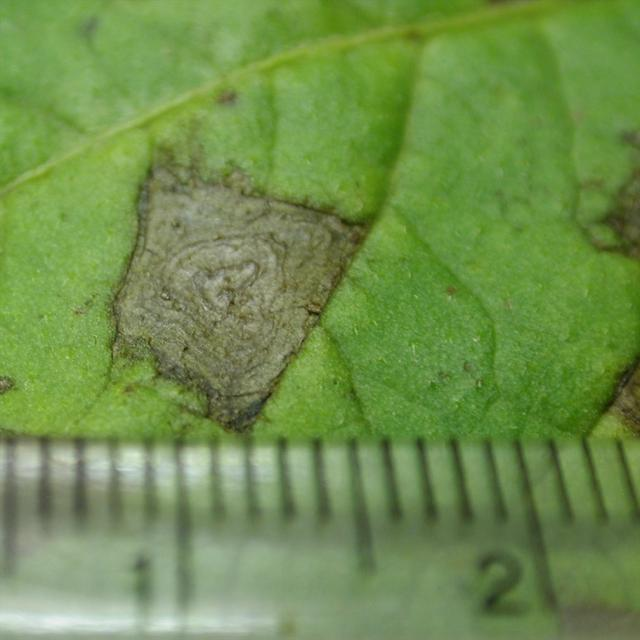earlyblight: (114, 165, 364, 432)
